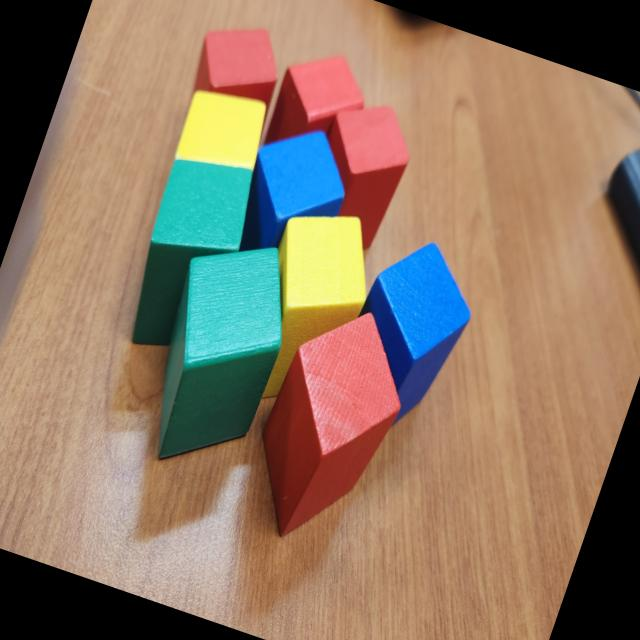blue: (328, 226, 491, 442), (223, 112, 364, 281)
green: (123, 220, 312, 486), (110, 142, 266, 368)
red: (230, 290, 427, 560), (294, 90, 424, 254), (257, 38, 377, 176), (184, 10, 294, 119)
yellow: (227, 195, 391, 424), (170, 80, 272, 184)
